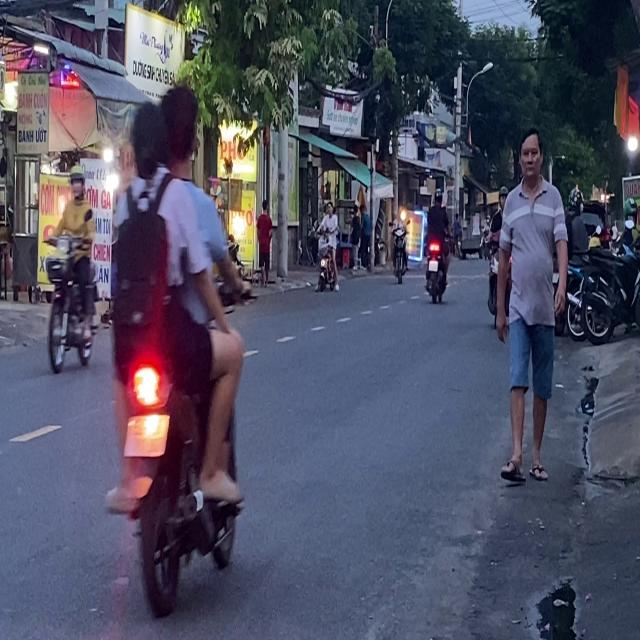helmet: (68, 165, 84, 201)
licenseplate: (102, 83, 250, 621), (40, 164, 100, 373)
motorcyclist: (156, 82, 200, 178), (128, 99, 166, 180)
nohelmet: (124, 414, 168, 456)
